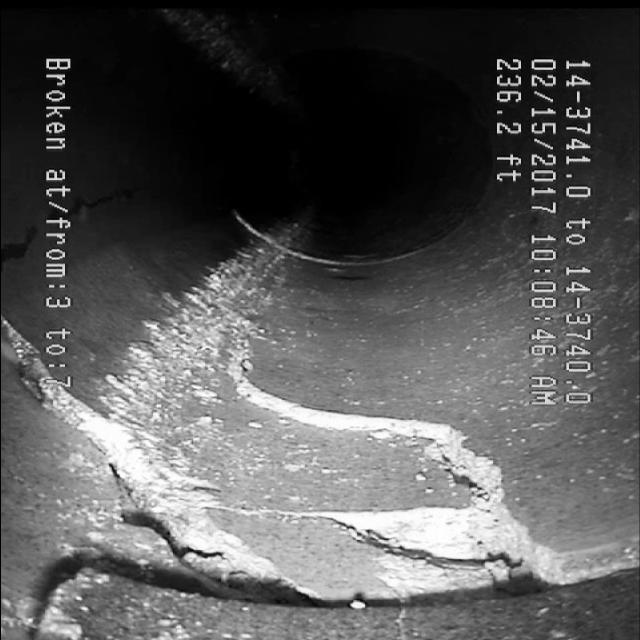Fracture: (140, 393, 536, 622)
